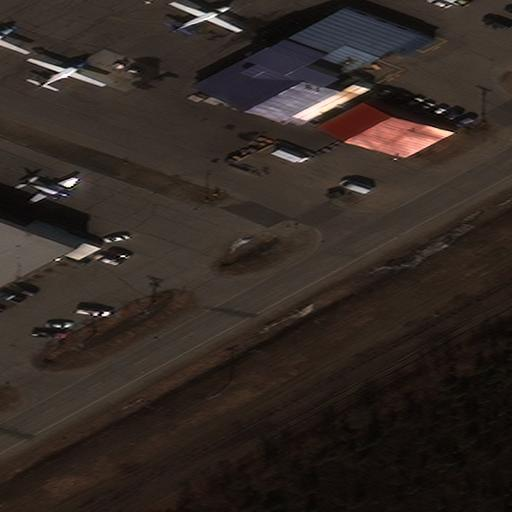Medium Civil Transport: (29, 57, 106, 89), (171, 1, 243, 32), (0, 27, 30, 53)
Small Civil Transport: (23, 178, 77, 210)
